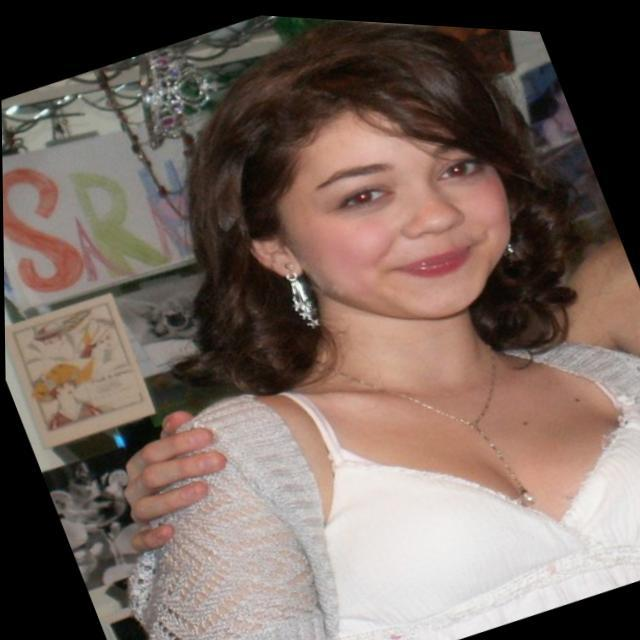Nonhelmet: (193, 20, 584, 327)
